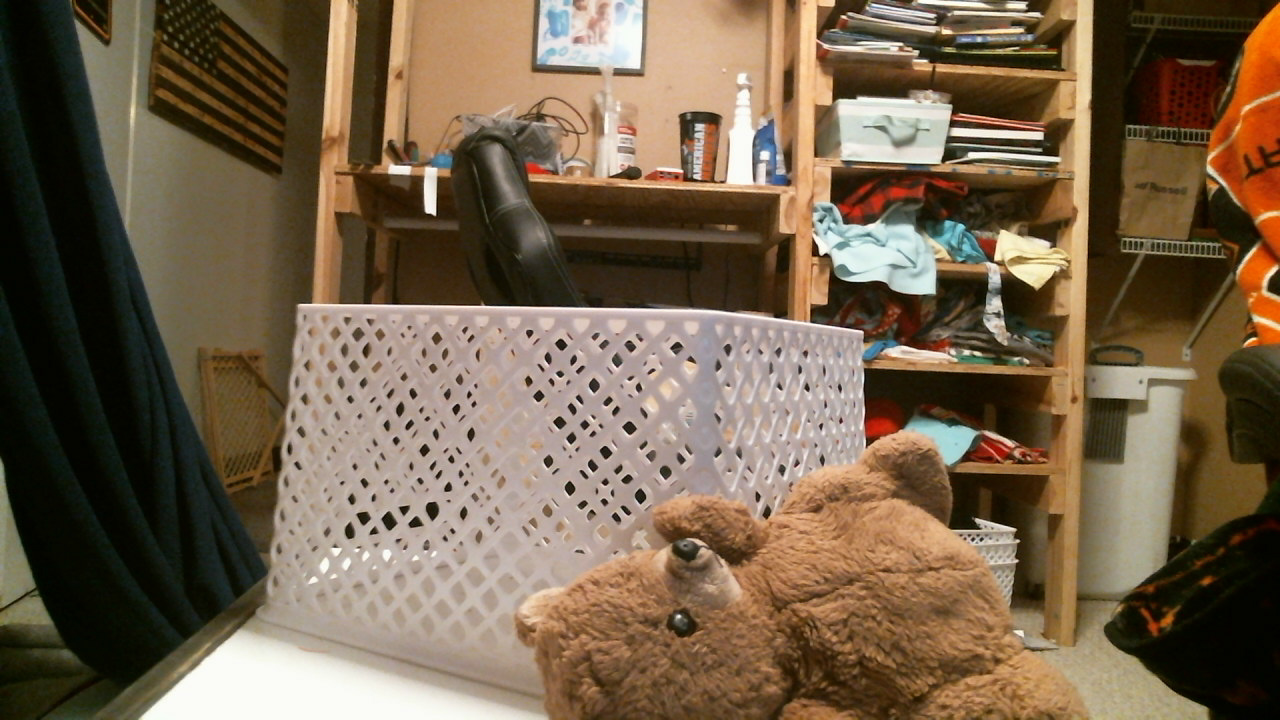Little_Mister_Bear: (644, 531, 744, 671)
